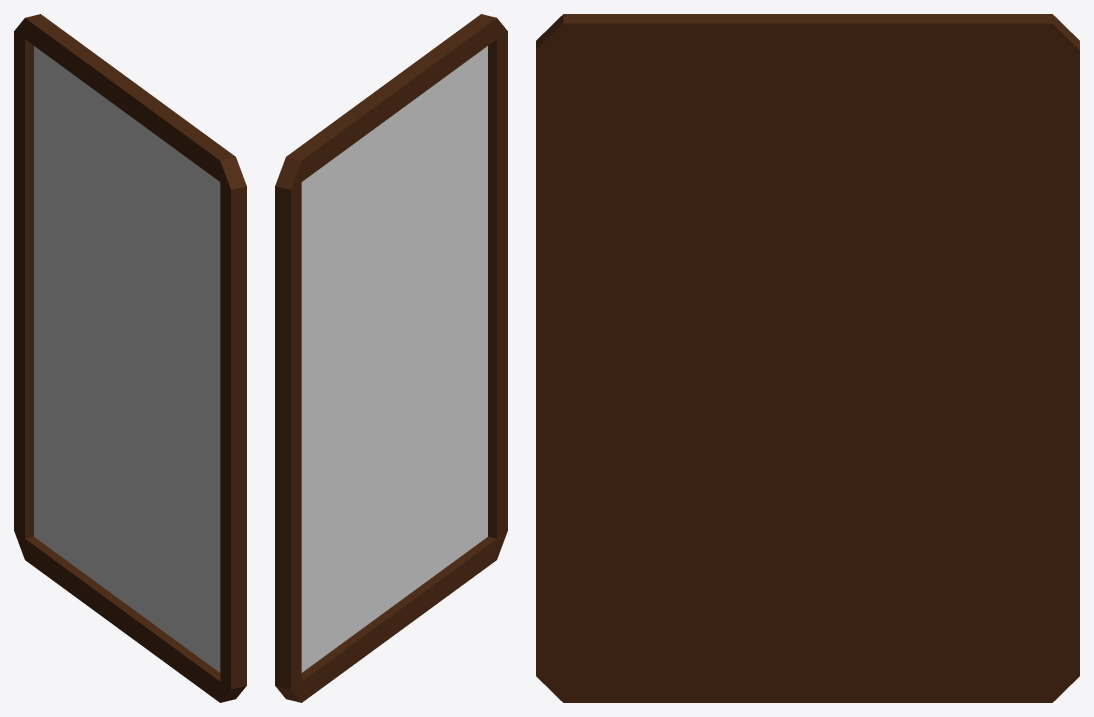
The model's file is kader.fbx.
The picture shows the model from 3 angles, left to right: view 1: azimuth 30°, elevation 25°; view 2: azimuth 150°, elevation 25°; view 3: azimuth 270°, elevation 25°; orthographic projection. The views are drawn at different scales.
Visible parts, largest first — view 1: Foto Frame; view 2: Foto Frame; view 3: Foto Frame.
Part boxes in pixels (x1,y1,x2,y2): Foto Frame: (14, 14, 246, 702); Foto Frame: (275, 14, 507, 702); Foto Frame: (536, 14, 1079, 702).
Bounding box in the file's own units: 1.6 × 52.38 × 38.
